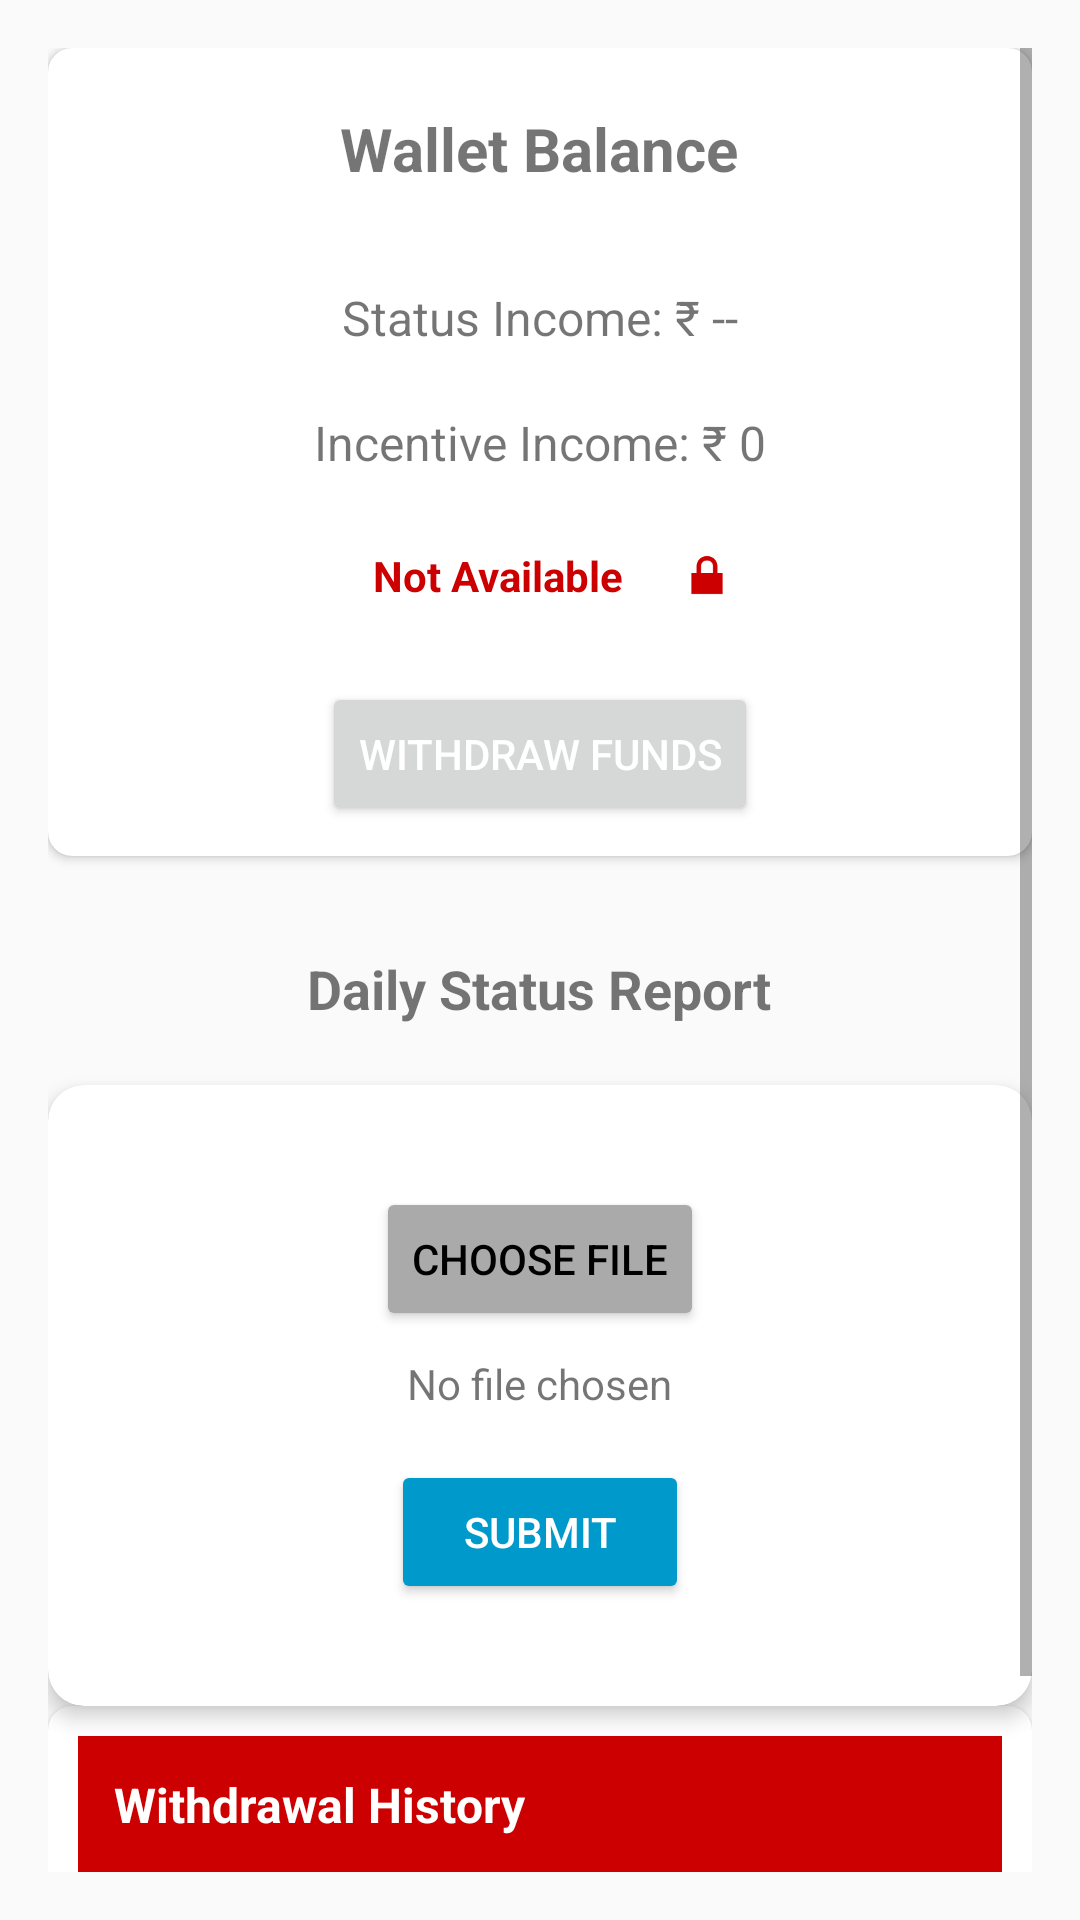

Screen size 1080*1920. Icon name, then its box in pixels as (x1, y1, x2, y2):
lock: (691, 556, 723, 594)
